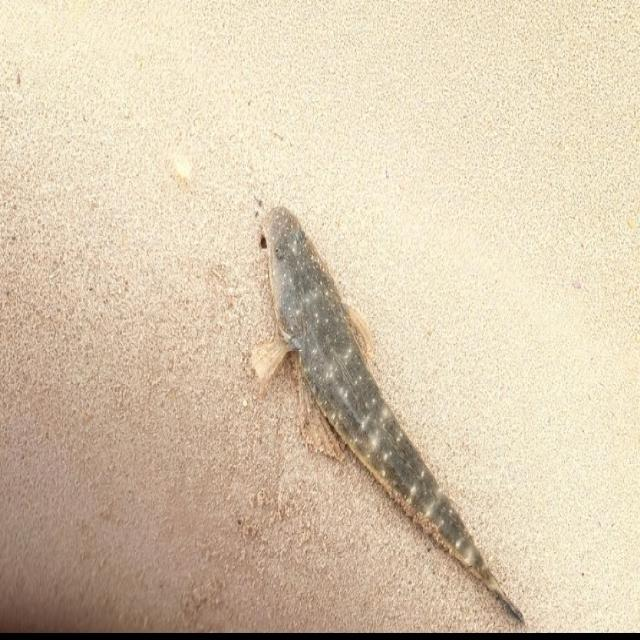Flathead: (240, 192, 533, 632)
